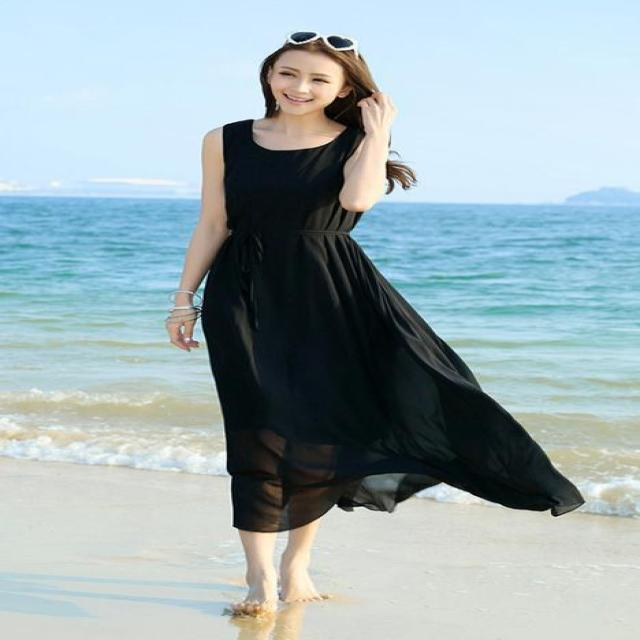vest dress: (209, 120, 584, 530)
